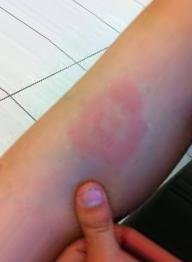Tick: (62, 90, 159, 177)
